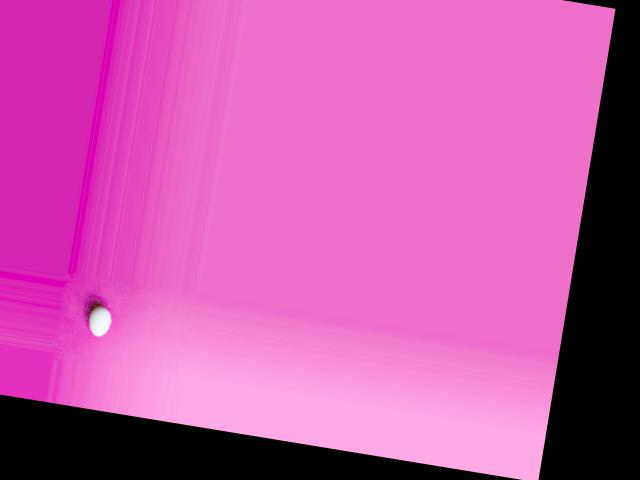egg: (87, 305, 113, 338)
